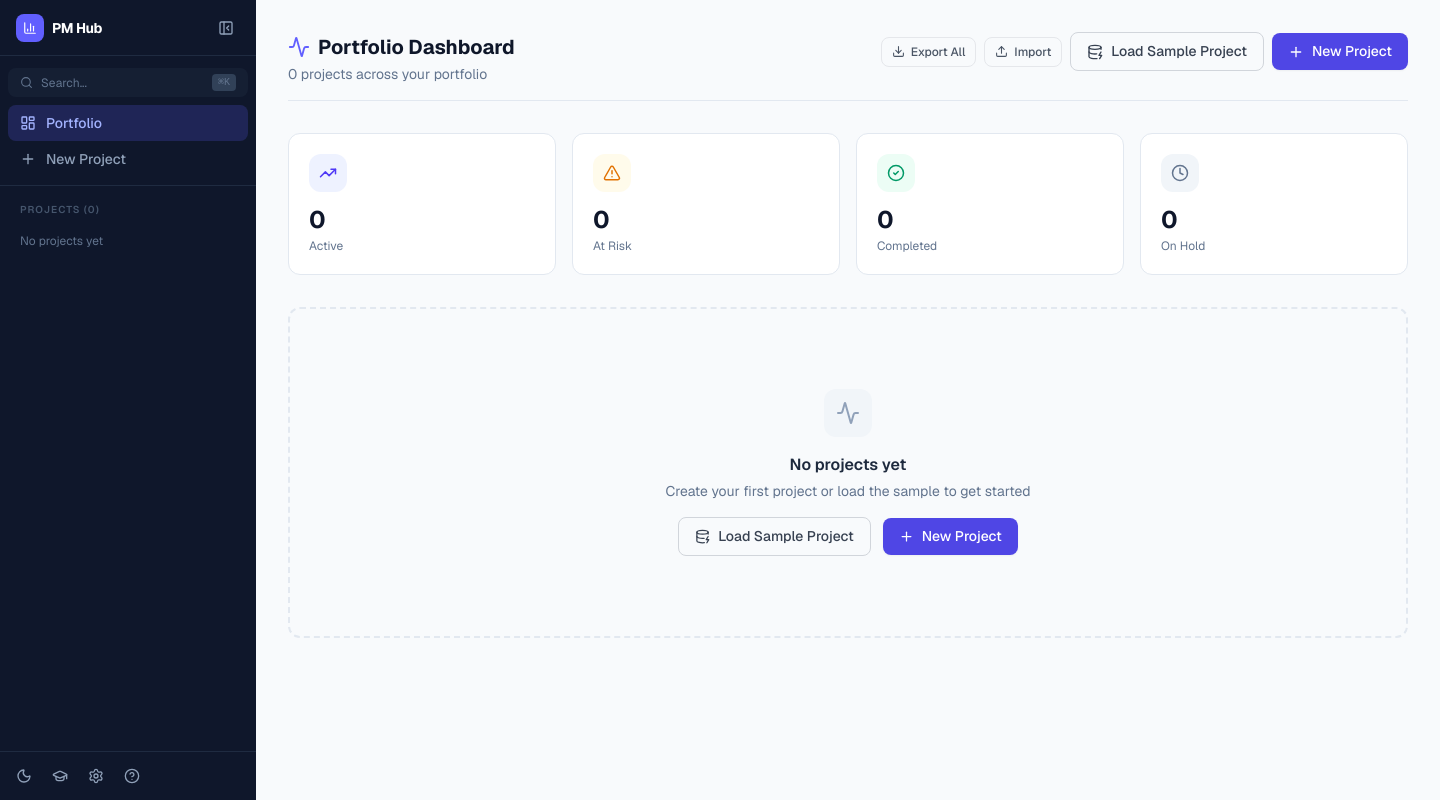
Test: Portfolio Dashboard › loads sample project and displays it on the dashboard
Note: click the "Load Sample Project" button (not the sidebar link)
Click the button "Load Sample Project" in the row of "Portfolio Dashboard".
click(1167, 52)  # box [1070,32,1264,71]
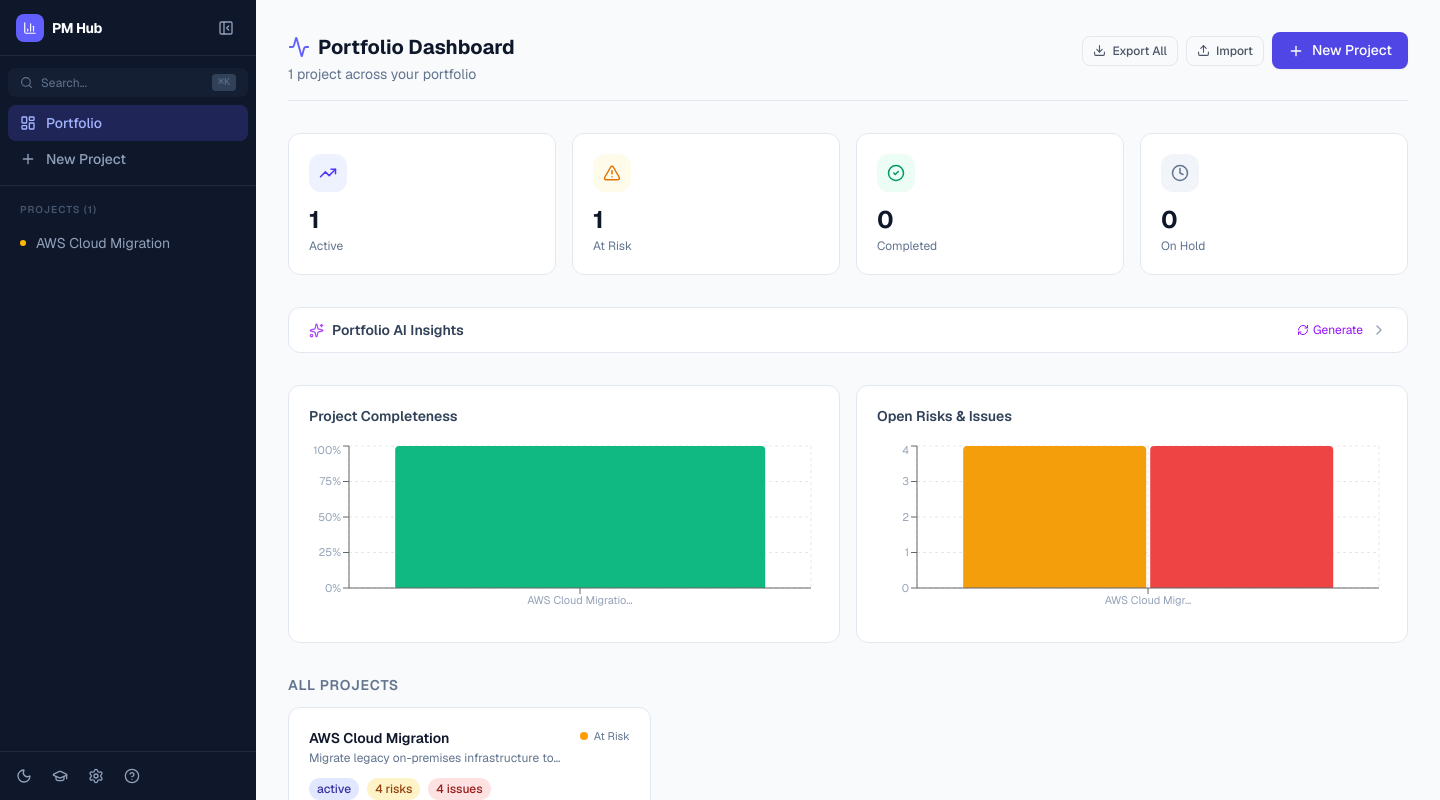
Expected: the link "AWS Cloud Migration" is shown, [20,234,170,252]
Expected: the text "1 project across your portfolio" is shown, [288,65,476,83]
Expected: the heading "Project Completeness" is shown, [309,407,458,425]
